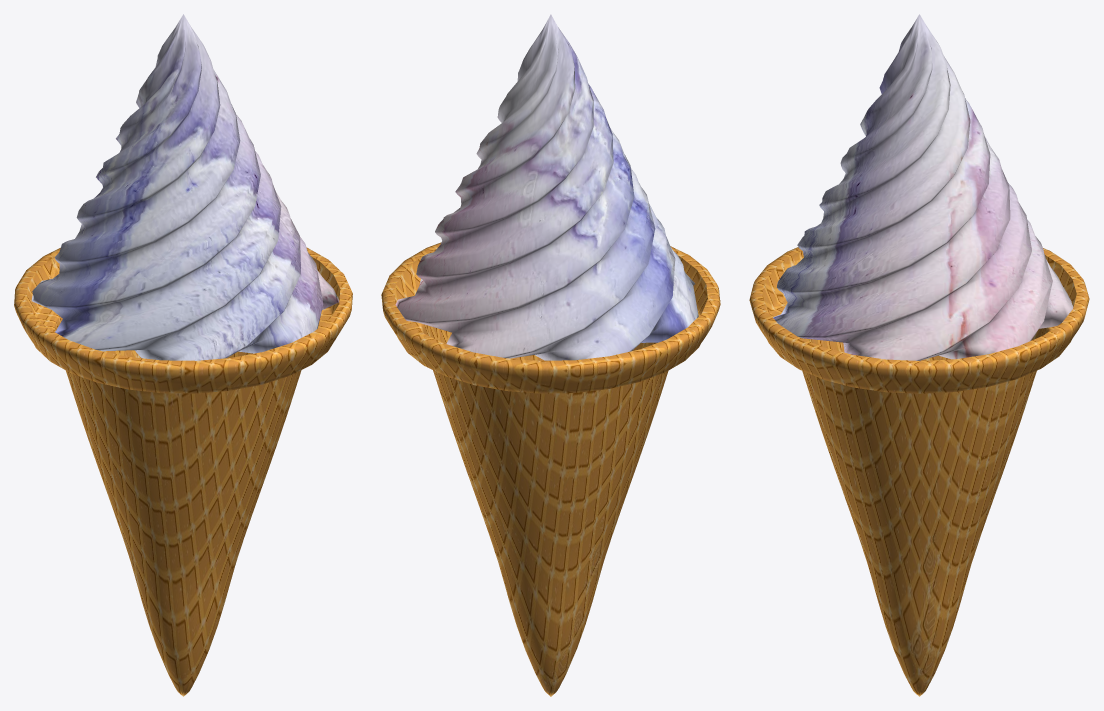
Rendered from swirlIcecream.fbx.
3 views of the same model, side by side, from view 1: azimuth 30°, elevation 25°; view 2: azimuth 150°, elevation 25°; view 3: azimuth 270°, elevation 25° (orthographic).
Visible parts, largest first — view 1: polySurface49; view 2: polySurface49; view 3: polySurface49.
Part boxes in pixels (x1,y1,x2,y2): polySurface49: (14, 14, 352, 696); polySurface49: (381, 14, 720, 696); polySurface49: (749, 14, 1089, 696).
Size of the model in its own units: 0.3942 by 0.8737 by 0.3943.
